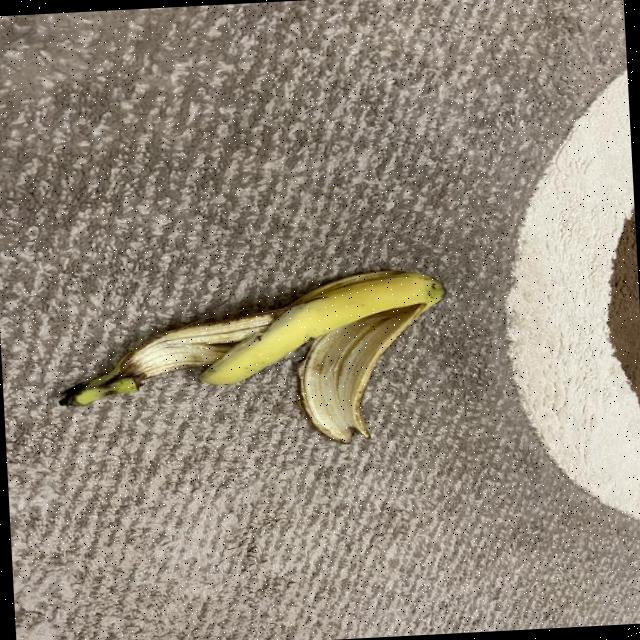banana-peel: (51, 264, 454, 458), (193, 266, 449, 388), (54, 308, 285, 408)
